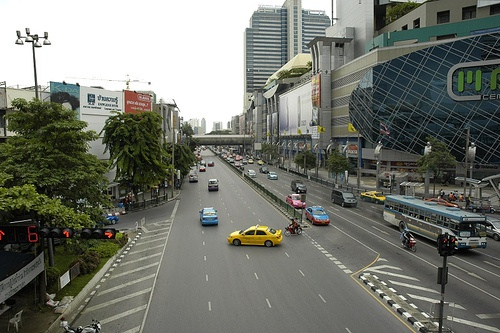non-vehicle: (400, 237, 416, 252), (283, 225, 302, 236)
